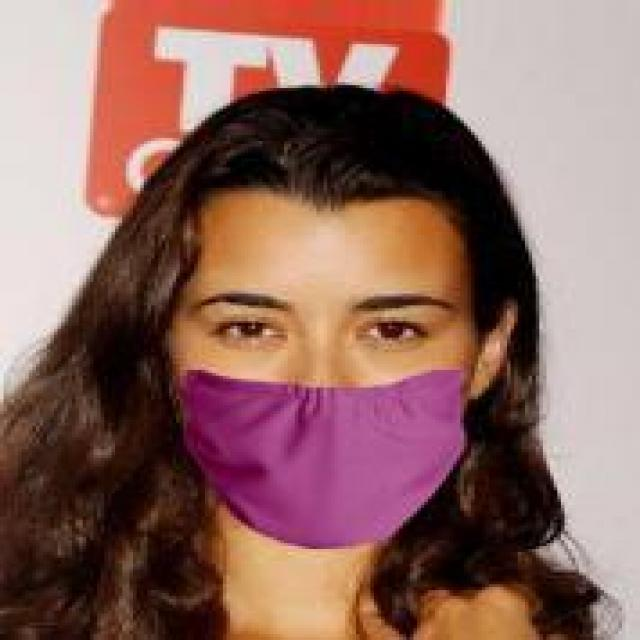mask: (122, 85, 558, 570)
